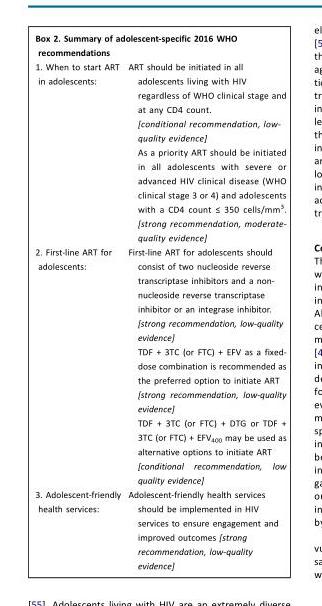table: (34, 34, 285, 569)
table column: (123, 34, 285, 569), (34, 34, 123, 569)
table projected row header: (34, 34, 285, 59)
table row: (34, 244, 285, 487), (34, 59, 285, 244), (34, 487, 285, 569), (34, 34, 285, 59)
